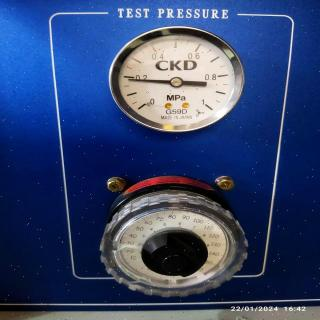gauge: (104, 24, 247, 135), (134, 96, 156, 114), (198, 97, 216, 115), (170, 76, 182, 88), (128, 75, 135, 83)
